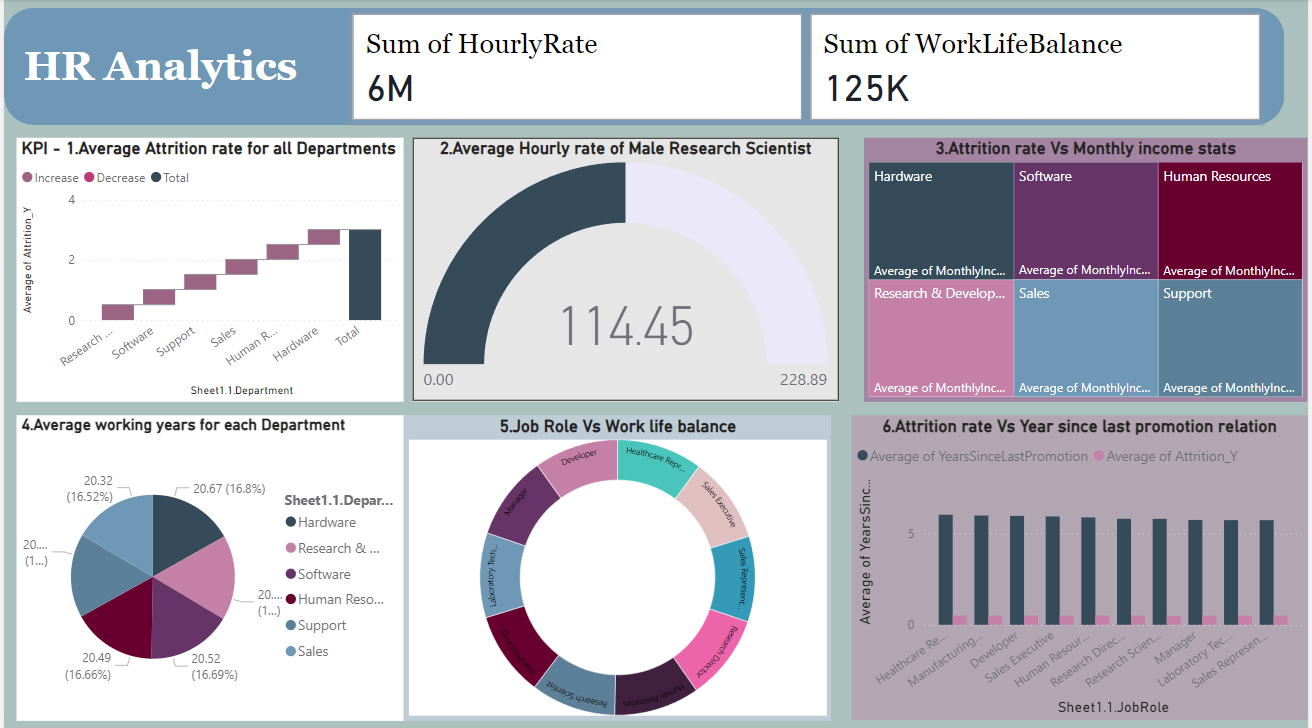

Layout of this report page (visuals, bound fields, positions):
{"tool":"tableau","page":{"name":"Dashboard 1","canvas":[1000,1000],"units":"permille","ordinal":0},"visuals":[{"type":"text","box":[4.8,6.4,990.5,70.4]},{"type":"worksheet","title":"KPI-1","mark":"Circle","box":[4.8,76.8,245,422.6]},{"type":"worksheet","title":"KPI-5","mark":"Automatic","box":[249.7,76.8,397.9,422.6]},{"type":"worksheet","title":"KPI-2","mark":"Pie","box":[647.6,76.8,252.4,422.6]},{"type":"legend","title":"KPI-1","param":"[federated.0pt1pa61yhcadc1crsget085mknc].[none:Sheet1.1.Department:nk]","box":[900,76.8,95.2,123.8]},{"type":"filter","title":"KPI-2","param":"[federated.0pt1pa61yhcadc1crsget085mknc].[none:Sheet1.1.Gender:nk]","box":[900,200.6,95.2,83.3]},{"type":"filter","title":"KPI-2","param":"[federated.0pt1pa61yhcadc1crsget085mknc].[none:Sheet1.1.Department:nk]","box":[900,283.9,95.2,156.3]},{"type":"legend","title":"KPI-4","param":"[federated.0pt1pa61yhcadc1crsget085mknc].[avg:TotalWorkingYears:qk]","box":[900,440.2,95.2,40.5]},{"type":"legend","title":"KPI-5","param":"[federated.0pt1pa61yhcadc1crsget085mknc].[none:Sheet1.1.JobRole:nk]","box":[900,480.7,95.2,190.5]},{"type":"worksheet","title":"KPI-3","mark":"Automatic","rows":["MonthlyIncome"],"cols":["Sheet1.1.Department"],"box":[4.8,499.3,331.6,494.3]},{"type":"worksheet","title":"KPI-6","mark":"Circle","box":[336.4,499.3,245.8,494.3]},{"type":"worksheet","title":"KPI-4","mark":"Pie","box":[582.2,499.3,317.8,494.3]}]}

Visuals, with their boxes on the dashboard's canvas, which has no fixed pixel size, in thousandths of its width and height (x1, y1, x2, y2). These are canvas units, not pixel positions in the 1312x728 screenshot, which may show the page scaled, cropped or inside an application window:
text: {"left": 5, "top": 6, "right": 995, "bottom": 77}
"KPI-1" worksheet (Circle marks): {"left": 5, "top": 77, "right": 250, "bottom": 499}
"KPI-5" worksheet: {"left": 250, "top": 77, "right": 648, "bottom": 499}
"KPI-2" worksheet (Pie marks): {"left": 648, "top": 77, "right": 900, "bottom": 499}
"KPI-1" legend: {"left": 900, "top": 77, "right": 995, "bottom": 201}
"KPI-2" filter: {"left": 900, "top": 201, "right": 995, "bottom": 284}
"KPI-2" filter: {"left": 900, "top": 284, "right": 995, "bottom": 440}
"KPI-4" legend: {"left": 900, "top": 440, "right": 995, "bottom": 481}
"KPI-5" legend: {"left": 900, "top": 481, "right": 995, "bottom": 671}
"KPI-3" worksheet: {"left": 5, "top": 499, "right": 336, "bottom": 994}
"KPI-6" worksheet (Circle marks): {"left": 336, "top": 499, "right": 582, "bottom": 994}
"KPI-4" worksheet (Pie marks): {"left": 582, "top": 499, "right": 900, "bottom": 994}
